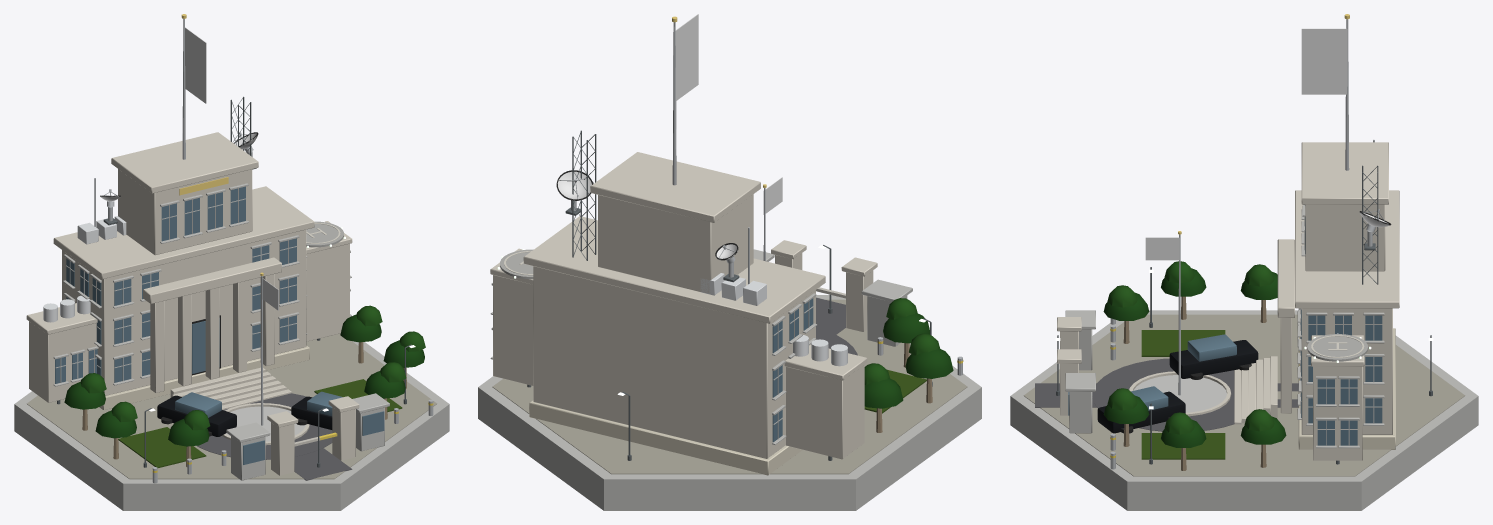
File: hq_med.glb
3 renders of one model, left to right at view 1: azimuth 30°, elevation 25°; view 2: azimuth 150°, elevation 25°; view 3: azimuth 270°, elevation 25°, orthographic. The views are drawn at different scales.
Parts seen in each view (by area): view 1: stone, wall_concrete, pavers, glass, leaf, asphalt, turf, paint, banner, cladding, metal, steel_dark (+1 smaller); view 2: stone, wall_concrete, pavers, leaf, cladding, banner, steel_dark, metal, glass, asphalt, paint, turf; view 3: stone, wall_concrete, pavers, leaf, glass, banner, asphalt, paint, turf, metal, steel_dark, wood.
Part boxes in pixels (box(x1,y1,x2,y2)): stone: box(26, 132, 359, 475); wall_concrete: box(14, 183, 449, 510); pavers: box(27, 333, 436, 479); glass: box(55, 186, 384, 464); leaf: box(64, 305, 425, 446); asphalt: box(197, 393, 352, 480); turf: box(118, 379, 402, 468); paint: box(100, 133, 340, 446); banner: box(185, 27, 278, 310); cladding: box(43, 216, 126, 322); metal: box(94, 19, 433, 483); steel_dark: box(57, 96, 411, 467); stone: box(490, 152, 877, 475); wall_concrete: box(478, 249, 981, 510); pavers: box(492, 299, 967, 474); leaf: box(864, 298, 953, 408); cladding: box(700, 273, 847, 366); banner: box(673, 14, 782, 214); steel_dark: box(527, 130, 932, 460); metal: box(559, 22, 962, 375); glass: box(772, 298, 813, 442); asphalt: box(816, 297, 857, 355); paint: box(504, 171, 845, 298); turf: box(864, 369, 926, 413); stone: box(1057, 142, 1399, 460); wall_concrete: box(1010, 204, 1478, 510); pavers: box(1023, 314, 1465, 476); leaf: box(1103, 261, 1286, 447); glass: box(1068, 205, 1382, 445); banner: box(1145, 28, 1347, 260); asphalt: box(1035, 358, 1298, 431); paint: box(1097, 211, 1391, 433); turf: box(1141, 330, 1225, 459); metal: box(1110, 19, 1385, 469); steel_dark: box(1056, 165, 1432, 464); wood: box(1123, 296, 1266, 470).
Size of the model in its own units: 21.3 by 23.78 by 24.6.
